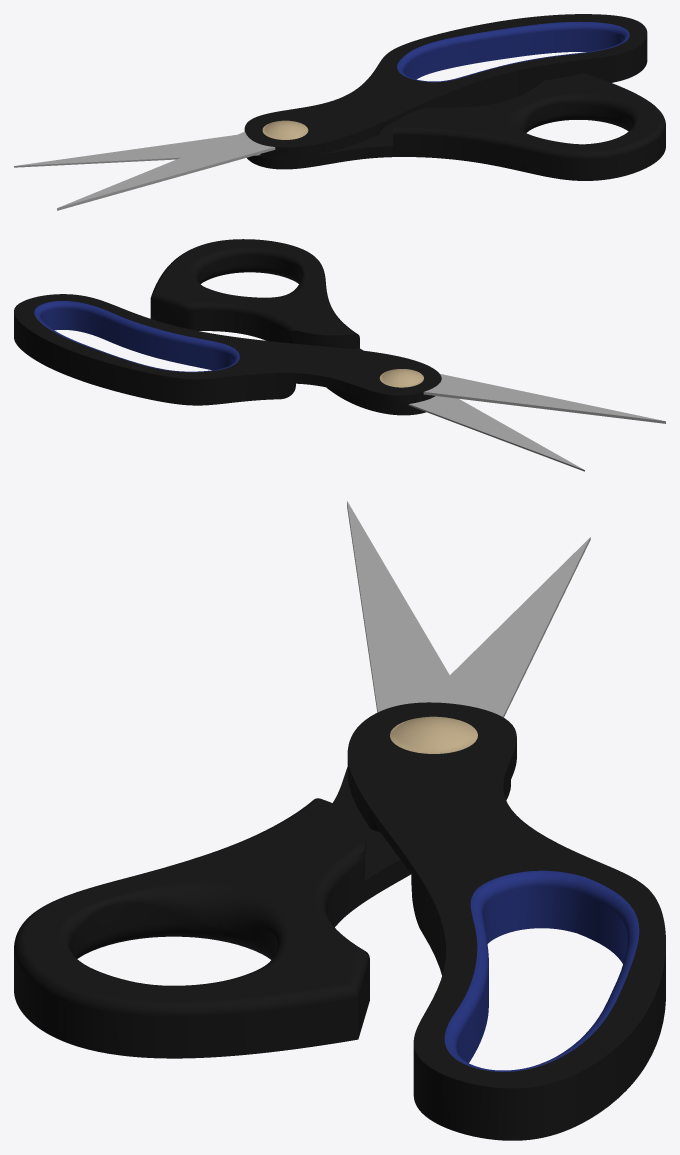
Rendered from scissor_by_fusion_360.fbx.
The picture shows the model from 3 angles, top to bottom: view 1: azimuth 30°, elevation 25°; view 2: azimuth 150°, elevation 25°; view 3: azimuth 270°, elevation 25°; orthographic projection. The views are drawn at different scales.
Parts seen in each view (by area): view 1: Cisor_v6stlcleanermaterialmergergles; view 2: Cisor_v6stlcleanermaterialmergergles; view 3: Cisor_v6stlcleanermaterialmergergles.
Part boxes in pixels (x1,y1,x2,y2): Cisor_v6stlcleanermaterialmergergles: (14,14,665,210); Cisor_v6stlcleanermaterialmergergles: (14,239,665,471); Cisor_v6stlcleanermaterialmergergles: (14,501,665,1140).
Size of the model in its own units: 12.06 by 0.6 by 5.65.
